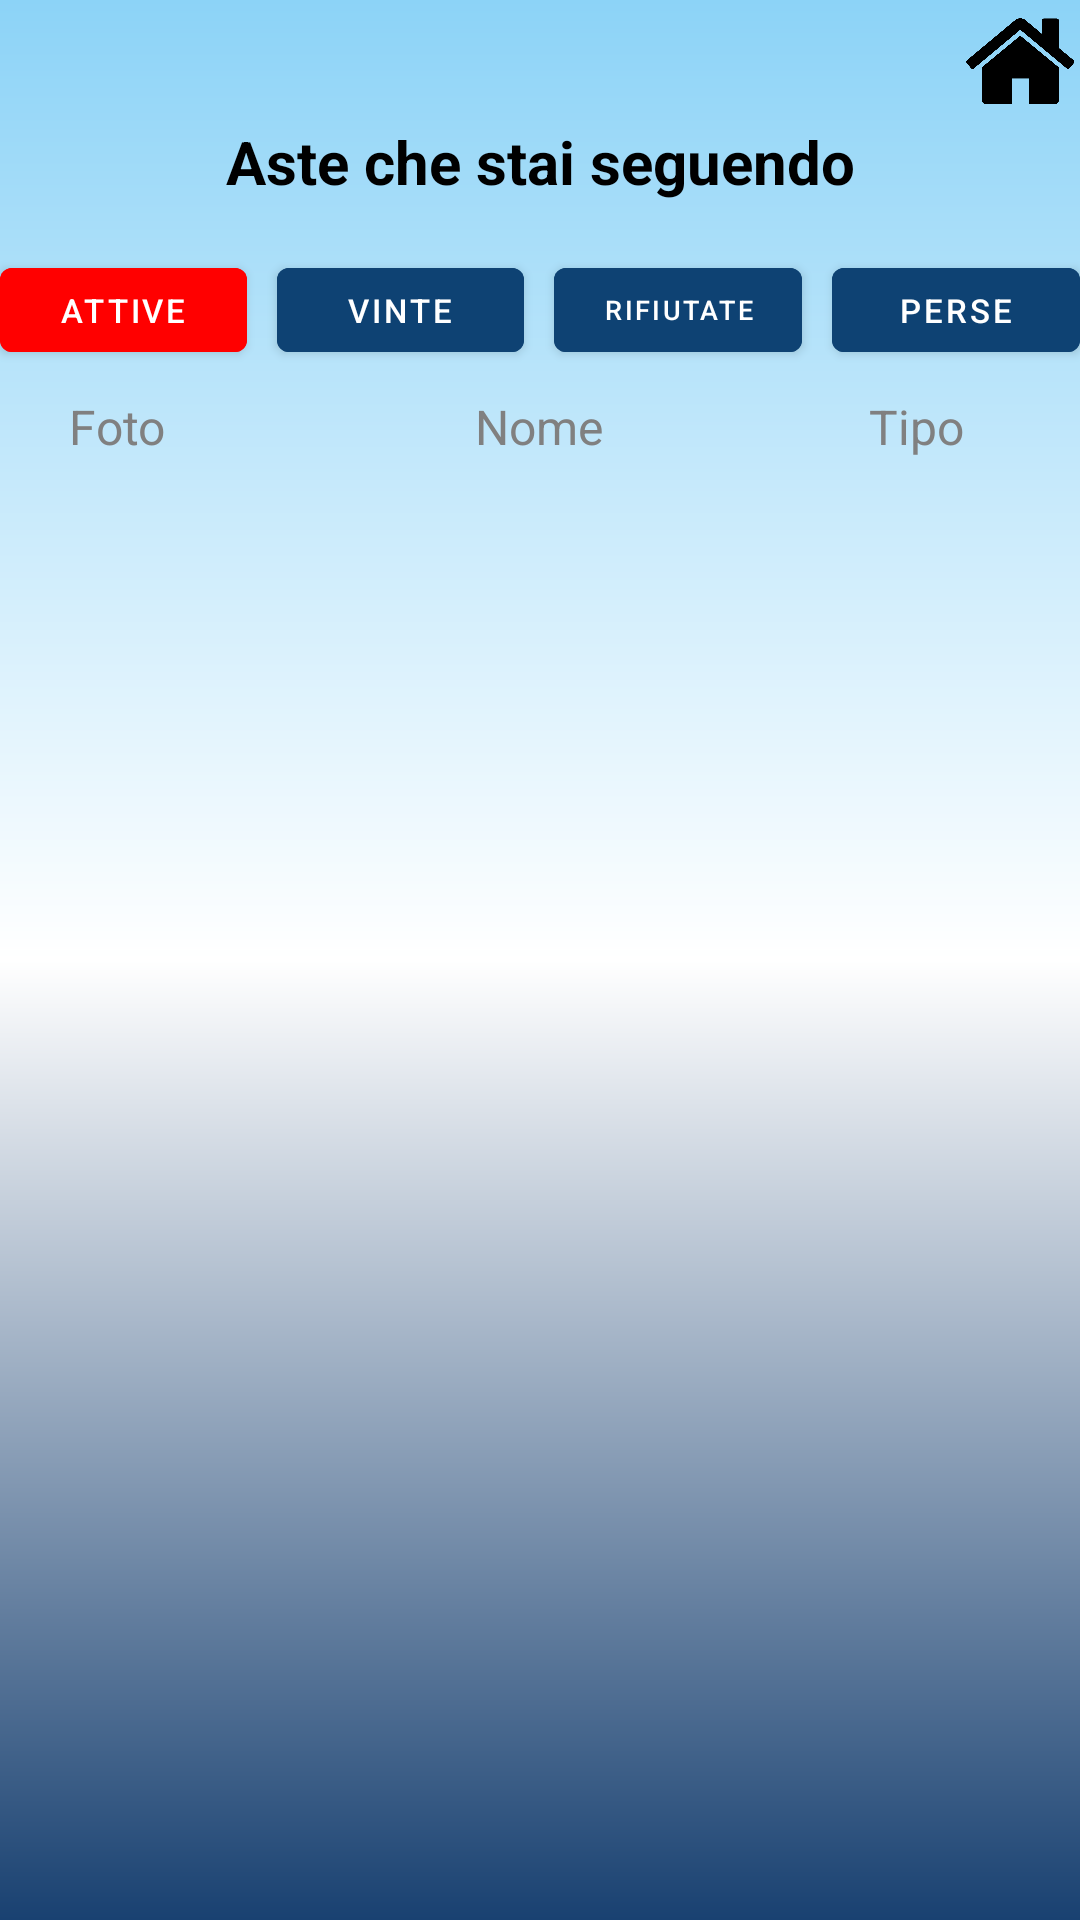

Icon click points for this 1080*1920 phone screenshot, format [x,y]:
home: [1020,61]
